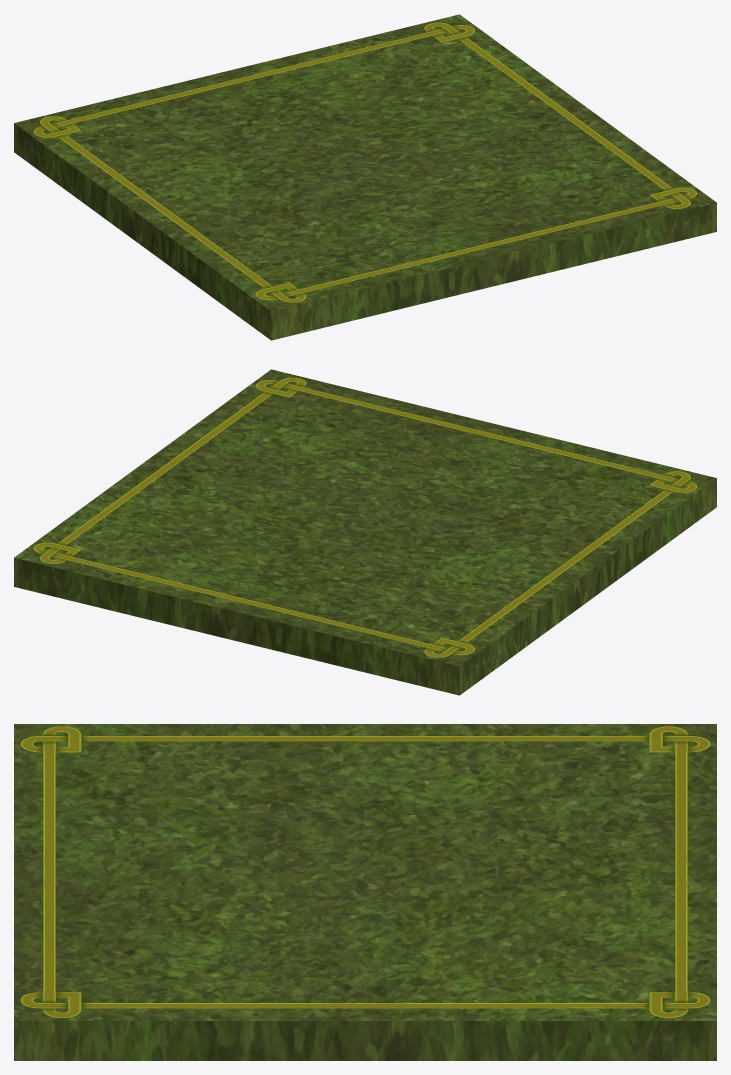
The model's file is mountain_floor.gltf.
The picture shows the model from 3 angles, top to bottom: view 1: azimuth 30°, elevation 25°; view 2: azimuth 150°, elevation 25°; view 3: azimuth 270°, elevation 25°; orthographic projection. The views are drawn at different scales.
Visible parts, largest first — view 1: mountain_floor_glb; view 2: mountain_floor_glb; view 3: mountain_floor_glb.
Part boxes in pixels (x1,y1,x2,y2): mountain_floor_glb: [14, 14, 716, 340]; mountain_floor_glb: [14, 369, 716, 695]; mountain_floor_glb: [14, 724, 716, 1060].
Size of what is drawn, in the model's own units: 4 by 0.2522 by 4.
2 materials, 2 textured.
